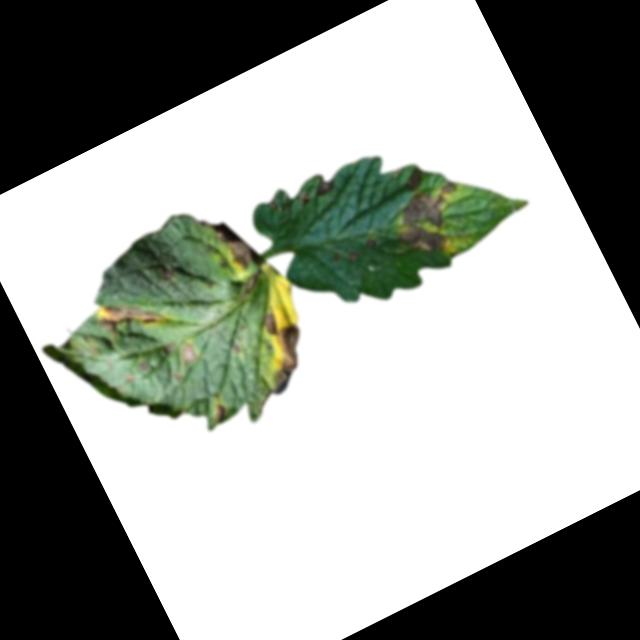Early_blight: (384, 175, 481, 267), (238, 301, 323, 397), (89, 278, 170, 349), (212, 208, 266, 278), (174, 338, 201, 369), (309, 173, 337, 199), (206, 402, 229, 426), (363, 234, 379, 249), (347, 244, 362, 259)
